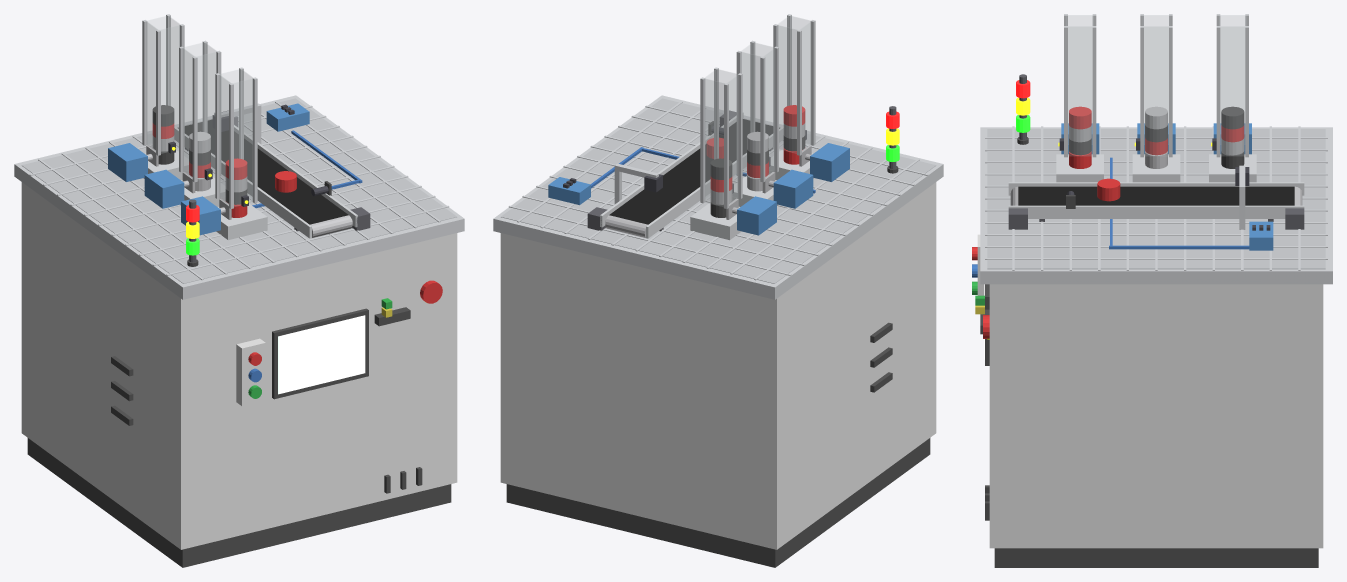
3 renders of one model, left to right at view 1: azimuth 30°, elevation 25°; view 2: azimuth 150°, elevation 25°; view 3: azimuth 270°, elevation 25°, orthographic. The views are drawn at different scales.
Parts seen in each view (by area): view 1: Cabinet, Plate_Center, Plate_Trim, Skirt, HMI_Screen, ST90_Belt_Surface, ST90_Mag3_Glass_F, ST90_Mag1_Glass_F, ST90_Mag2_Glass_F, HMI_Border, ST90_Mag2_Glass_B, Btn_Box (+24 smaller); view 2: Cabinet, Plate_Center, Plate_Trim, Skirt, ST90_Belt_Surface, ST90_Mag1_Glass_B, ST90_Mag3_Glass_B, ST90_Mag2_Glass_B, ST90_Mag2_Glass_F, ST90_Mag3_Glass_F, ST90_Mag1_Glass_F, ST90_Push2_Body (+21 smaller); view 3: Cabinet, Plate_Center, Plate_Trim, Skirt, ST90_Belt_Surface, ST90_Belt_Rail_R, ST90_Mag2_Glass_R, ST90_Mag1_Glass_R, ST90_Mag3_Glass_R, ST90_Mag2_Glass_L, ST90_Mag3_Glass_L, ST90_Mag1_Glass_L (+21 smaller).
Boxes of the visible parts, x1,y1,x2,y2 form: Cabinet: (21,182,457,549); Plate_Center: (21,98,456,283); Plate_Trim: (14,95,464,299); Skirt: (27,438,451,567); HMI_Screen: (278,315,365,394); ST90_Belt_Surface: (178,119,348,224); ST90_Mag3_Glass_F: (233,78,252,206); ST90_Mag1_Glass_F: (160,25,179,153); ST90_Mag2_Glass_F: (197,52,216,179); HMI_Border: (272,308,368,399); ST90_Mag2_Glass_B: (184,42,203,170); Btn_Box: (236,338,265,406); Cabinet: (500,182,936,549); Plate_Center: (501,98,936,283); Plate_Trim: (493,95,943,299); Skirt: (506,438,930,567); ST90_Belt_Surface: (609,119,779,224); ST90_Mag1_Glass_B: (705,78,724,206); ST90_Mag3_Glass_B: (778,25,797,153); ST90_Mag2_Glass_B: (741,52,760,179); ST90_Mag2_Glass_F: (754,42,773,170); ST90_Mag3_Glass_F: (791,16,810,143); ST90_Mag1_Glass_F: (718,69,737,197); ST90_Push2_Body: (773,169,813,208); Cabinet: (989,284,1323,548); Plate_Center: (987,129,1325,269); Plate_Trim: (980,127,1332,284); Skirt: (994,548,1318,567); ST90_Belt_Surface: (1018,186,1294,205); ST90_Belt_Rail_R: (1008,205,1304,218); ST90_Mag2_Glass_R: (1144,26,1168,155); ST90_Mag1_Glass_R: (1220,26,1244,155); ST90_Mag3_Glass_R: (1068,26,1092,155); ST90_Mag2_Glass_L: (1144,15,1168,144); ST90_Mag3_Glass_L: (1068,15,1092,144); ST90_Mag1_Glass_L: (1220,15,1244,111).
Size of the model in its own units: 0.717 by 1.06 by 0.757.
